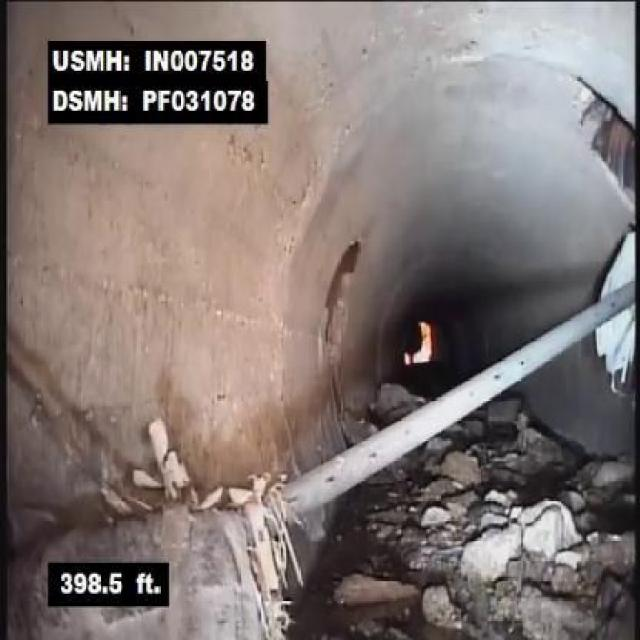Debris: (436, 491, 638, 638)
Utility intrusion: (126, 268, 637, 548)
